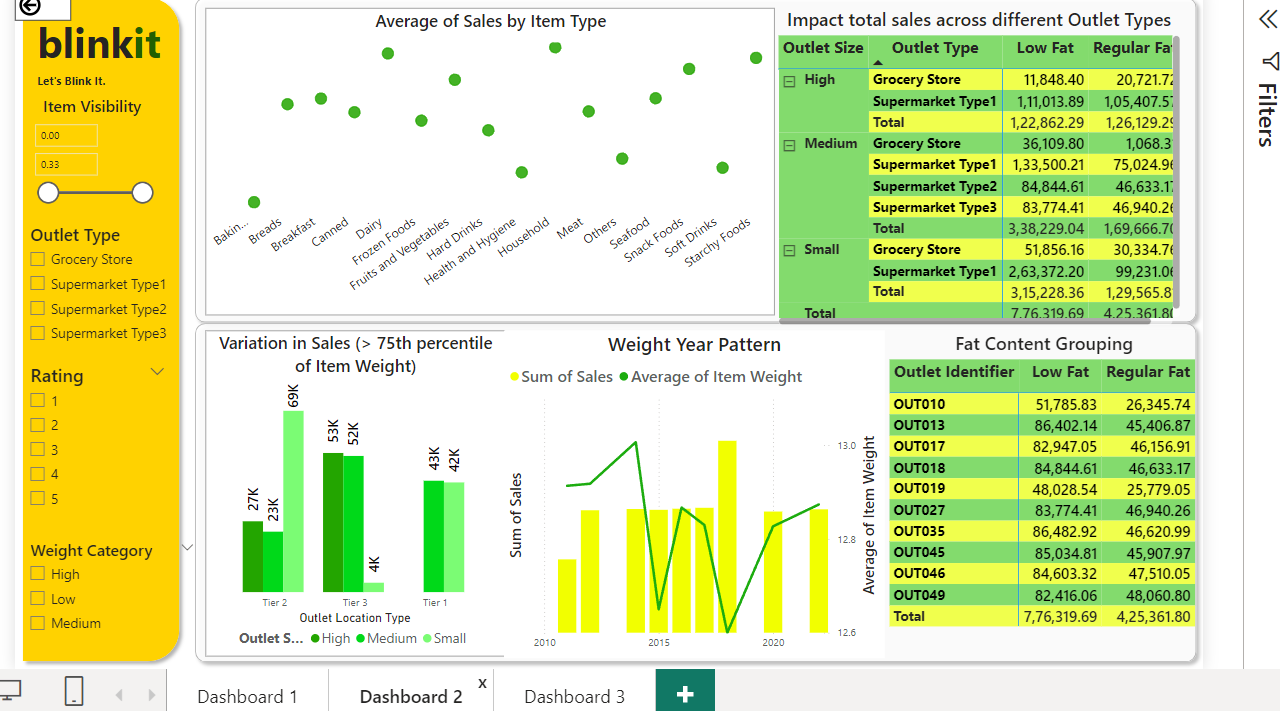

Layout of this report page (visuals, bound fields, positions):
{"tool":"powerbi","page":{"name":"Dashboard 2","canvas":[1400,800],"ordinal":1},"visuals":[{"type":"shape","box":[0,0,202.6,800],"z":0},{"type":"textbox","box":[21,22.5,178.6,84],"z":1000},{"type":"textbox","box":[21,91.6,126.1,31.5],"z":2000},{"type":"shape","box":[202.6,0,1197.7,400.7],"z":3000},{"type":"shape","box":[202.6,382.7,1197.7,417.2],"z":4000},{"type":"slicer","title":"Item Visibility","fields":{"Values":["BlinkIT Grocery Data.Item Visibility"]},"box":[10.5,123.1,160.6,133.6],"z":5000},{"type":"scatterChart","fields":{"Y":["Avg(BlinkIT Grocery Data.Sales)"],"X":["BlinkIT Grocery Data.Item Type"]},"box":[223.6,21,670.9,361.7],"z":6000},{"type":"pivotTable","title":"Impact total sales across different Outlet Types","fields":{"Rows":["BlinkIT Grocery Data.Outlet Size","BlinkIT Grocery Data.Outlet Type"],"Columns":["BlinkIT Grocery Data.Item Fat Content"],"Values":["Sum(BlinkIT Grocery Data.Sales)"]},"box":[895,20,483.3,380],"z":7000},{"type":"clusteredColumnChart","title":"Variation in Sales (> 75th percentile of Item Weight)","fields":{"Category":["BlinkIT Grocery Data.Outlet Location Type"],"Y":["Sum(BlinkIT Grocery Data.Sales)"],"Series":["BlinkIT Grocery Data.Outlet Size"]},"box":[223.6,400.7,352.7,384.2],"z":8000},{"type":"lineClusteredColumnComboChart","title":"Weight Year Pattern","fields":{"Category":["BlinkIT Grocery Data.Outlet Establishment Year"],"Y2":["Avg(BlinkIT Grocery Data.Item Weight)"],"Y":["Sum(BlinkIT Grocery Data.Sales)"]},"box":[576.3,400.7,448.8,385.7],"z":9000},{"type":"slicer","fields":{"Values":["BlinkIT Grocery Data.Outlet Type"]},"box":[6,268.7,183.1,201.1],"z":10000},{"type":"pivotTable","title":"Fat Content Grouping","fields":{"Columns":["BlinkIT Grocery Data.Item Fat Content"],"Values":["Sum(BlinkIT Grocery Data.Sales)"],"Rows":["BlinkIT Grocery Data.Outlet Identifier"]},"box":[1025.1,400.7,375.2,385.7],"z":11000},{"type":"slicer","fields":{"Values":["BlinkIT Grocery Data.Rating"]},"box":[6,433.7,183.1,186.1],"z":12000},{"type":"slicer","fields":{"Values":["BlinkIT Grocery Data.Weight Category"]},"box":[6,640.9,217.6,159.1],"z":13000},{"type":"actionButton","box":[0,0,66,36],"z":14000}]}

Visuals, with their boxes on the page's 1400x800 design canvas (x1, y1, x2, y2). These are canvas units, not pixel positions in the 1280x711 screenshot, which may show the page scaled, cropped or inside an application window:
shape: 0/0/203/800
textbox: 21/22/200/106
textbox: 21/92/147/123
shape: 203/0/1400/401
shape: 203/383/1400/800
"Item Visibility" slicer: 10/123/171/257
scatterChart - Avg(BlinkIT Grocery Data.Sales) x BlinkIT Grocery Data.Item Type: 224/21/894/383
"Impact total sales across different Outlet Types" pivotTable: 895/20/1378/400
"Variation in Sales (> 75th percentile of Item Weight)" clusteredColumnChart: 224/401/576/785
"Weight Year Pattern" lineClusteredColumnComboChart: 576/401/1025/786
slicer - BlinkIT Grocery Data.Outlet Type: 6/269/189/470
"Fat Content Grouping" pivotTable: 1025/401/1400/786
slicer - BlinkIT Grocery Data.Rating: 6/434/189/620
slicer - BlinkIT Grocery Data.Weight Category: 6/641/224/800
actionButton: 0/0/66/36
